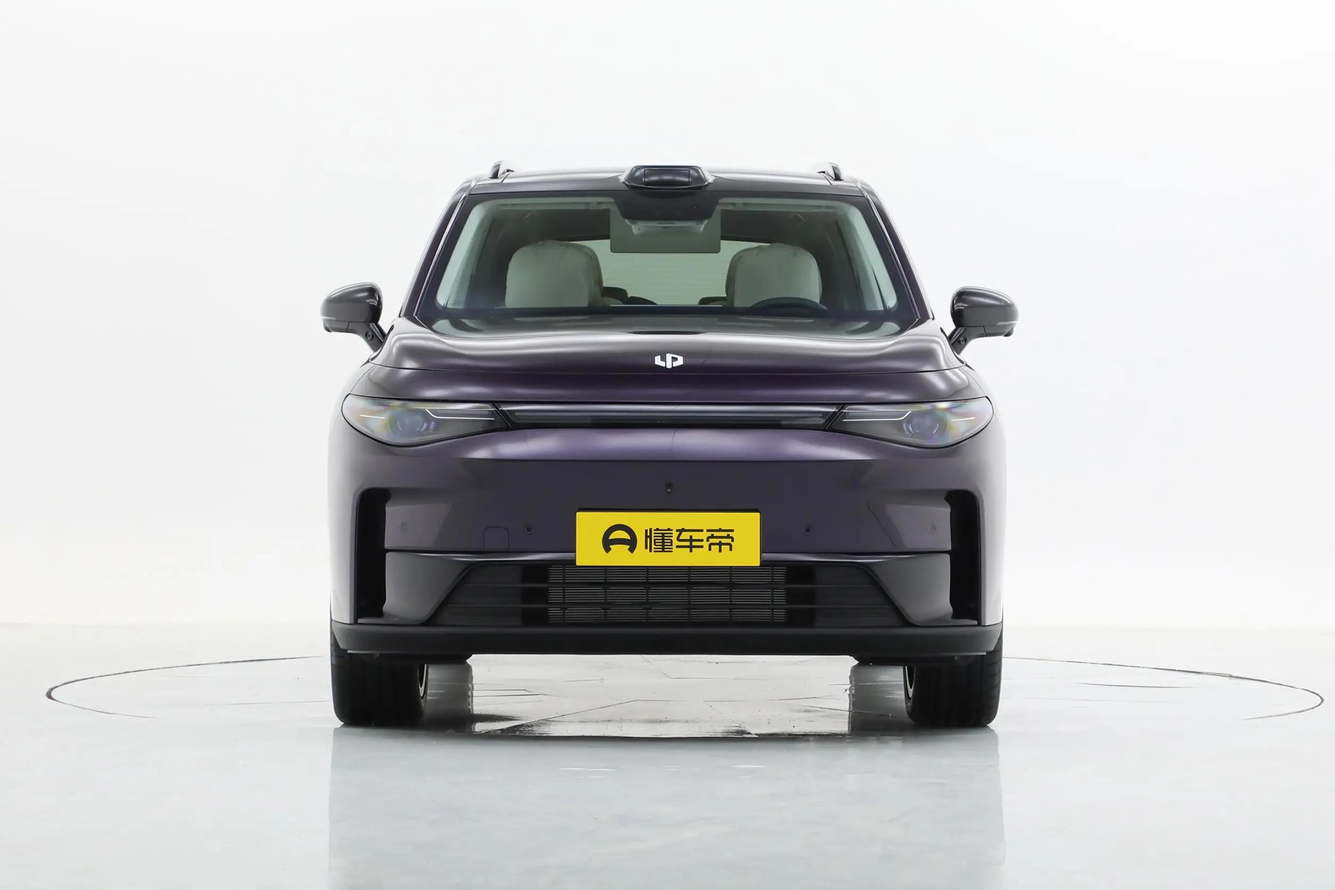LEAPMOTOR: (653, 351, 684, 369)
